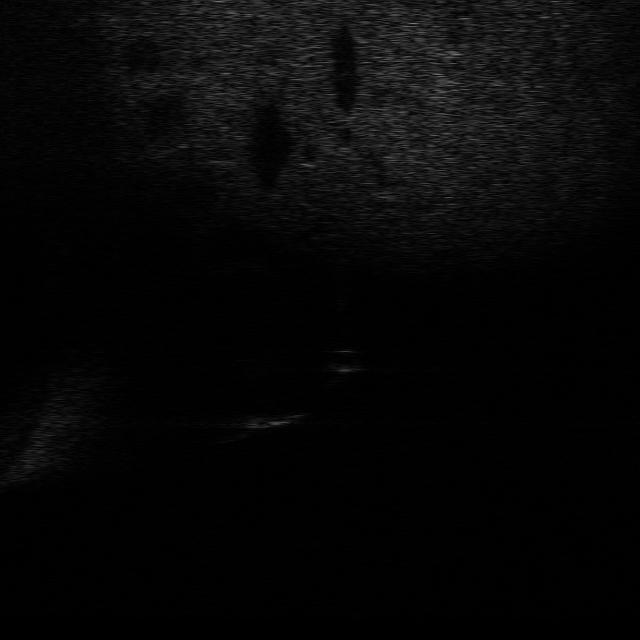ball: (319, 340, 371, 380)
square cage: (221, 401, 310, 438)
